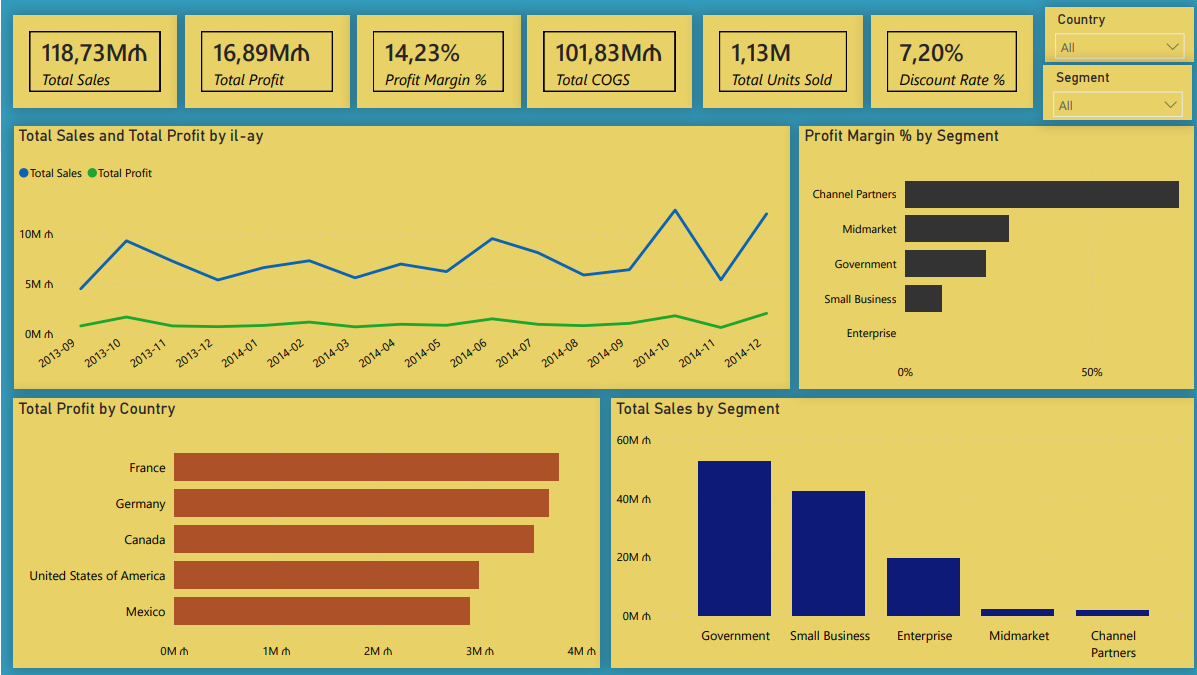

Layout of this report page (visuals, bound fields, positions):
{"tool":"powerbi","page":{"name":"Umumi baxis","canvas":[1280,720],"ordinal":0},"visuals":[{"type":"cardVisual","fields":{"Data":["DAX-lar.Total Sales"]},"box":[14.5,16.9,173.7,98.9],"z":0},{"type":"cardVisual","fields":{"Data":["DAX-lar.Total Profit"]},"box":[196.6,16.9,174.9,98.9],"z":1000},{"type":"cardVisual","fields":{"Data":["KPI-lar.Profit Margin %"]},"box":[380,16.9,173.7,98.9],"z":2000},{"type":"cardVisual","fields":{"Data":["DAX-lar.Total COGS"]},"box":[562.2,16.9,174.9,98.9],"z":3000},{"type":"cardVisual","fields":{"Data":["DAX-lar.Total Units Sold"]},"box":[749.2,16.9,170.1,98.9],"z":4000},{"type":"cardVisual","fields":{"Data":["KPI-lar.Discount Rate %"]},"box":[927.8,16.9,172.5,98.9],"z":5000},{"type":"lineChart","fields":{"Category":["Calendar.il-ay"],"Y":["DAX-lar.Total Sales","DAX-lar.Total Profit"]},"box":[14.5,135.1,826.4,279.9],"z":6000},{"type":"barChart","fields":{"Category":["Financials.Country"],"Y":["DAX-lar.Total Profit"]},"box":[14.5,424.7,624.9,287.1],"z":7000},{"type":"columnChart","fields":{"Category":["Financials.Segment"],"Y":["DAX-lar.Total Sales"]},"box":[651.5,424.7,620.1,287.1],"z":8000},{"type":"barChart","fields":{"Category":["Financials.Segment"],"Y":["KPI-lar.Profit Margin %"]},"box":[851.7,135.1,419.8,279.9],"z":9000},{"type":"slicer","fields":{"Values":["Financials.Country"]},"box":[1113.5,8.4,158,57.9],"z":10000},{"type":"slicer","fields":{"Values":["Financials.Segment"]},"box":[1112.3,70,158,57.9],"z":11000}]}

Visuals, with their boxes in screenshot pixels (x1, y1, x2, y2), scaled from the page's 1280x720 canvas onto the 1197x675 screenshot:
cardVisual - DAX-lar.Total Sales: Rect(14, 16, 176, 109)
cardVisual - DAX-lar.Total Profit: Rect(184, 16, 347, 109)
cardVisual - KPI-lar.Profit Margin %: Rect(355, 16, 518, 109)
cardVisual - DAX-lar.Total COGS: Rect(526, 16, 689, 109)
cardVisual - DAX-lar.Total Units Sold: Rect(701, 16, 860, 109)
cardVisual - KPI-lar.Discount Rate %: Rect(868, 16, 1029, 109)
lineChart - Calendar.il-ay x DAX-lar.Total Sales: Rect(14, 127, 786, 389)
barChart - Financials.Country x DAX-lar.Total Profit: Rect(14, 398, 598, 667)
columnChart - Financials.Segment x DAX-lar.Total Sales: Rect(609, 398, 1189, 667)
barChart - Financials.Segment x KPI-lar.Profit Margin %: Rect(796, 127, 1189, 389)
slicer - Financials.Country: Rect(1041, 8, 1189, 62)
slicer - Financials.Segment: Rect(1040, 66, 1188, 120)
